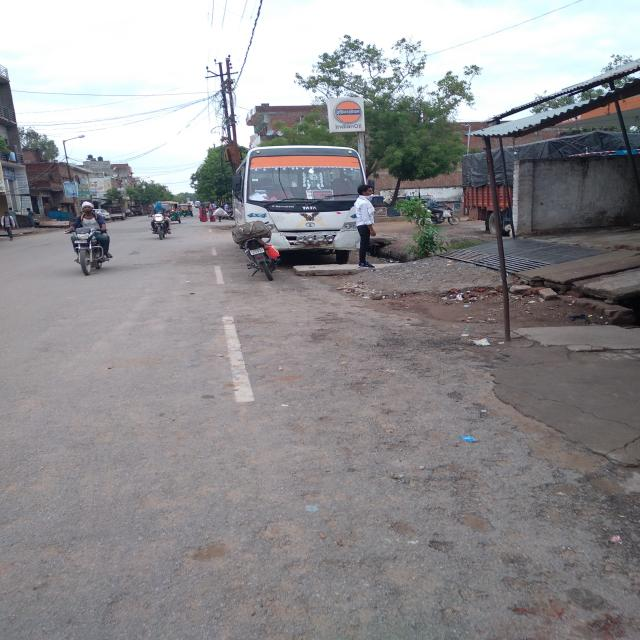Bus: (232, 140, 350, 234)
